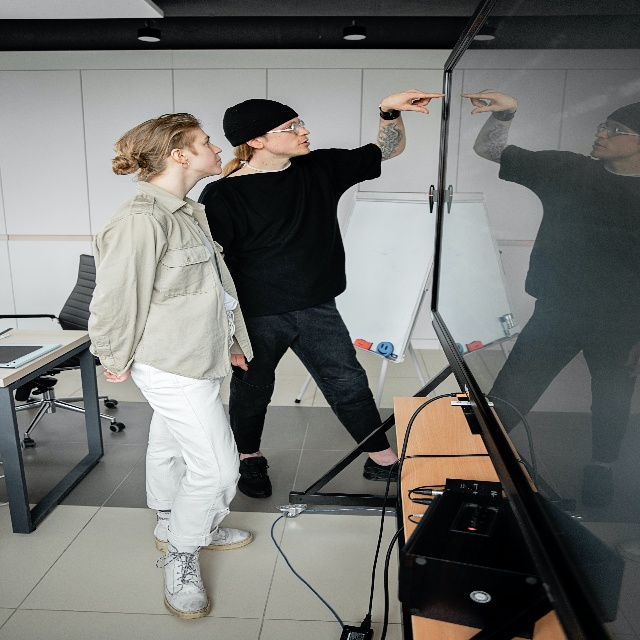Gafas: (263, 120, 307, 134)
Sin_guantes: (381, 89, 441, 120)
